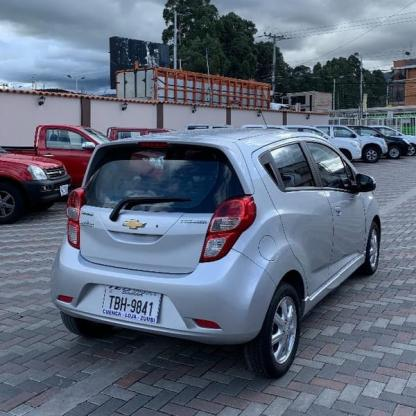Placa: (102, 286, 159, 325)
